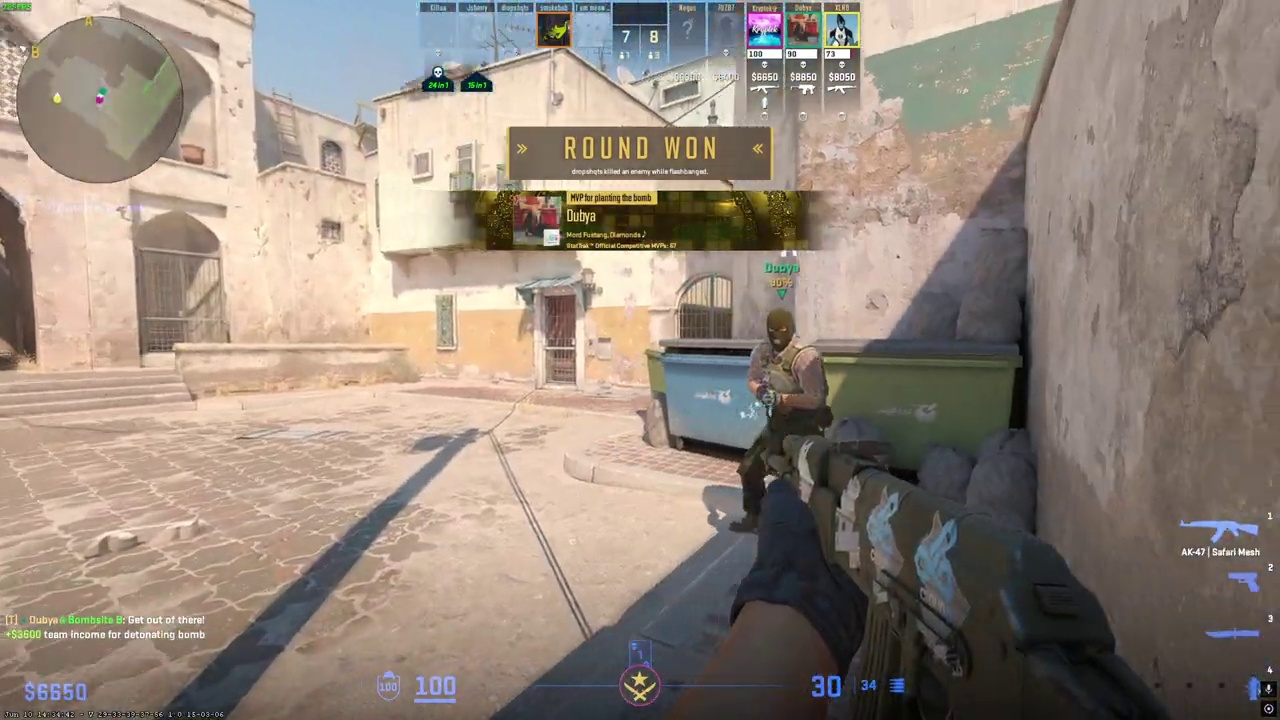Terrorist: (730, 308, 833, 533)
